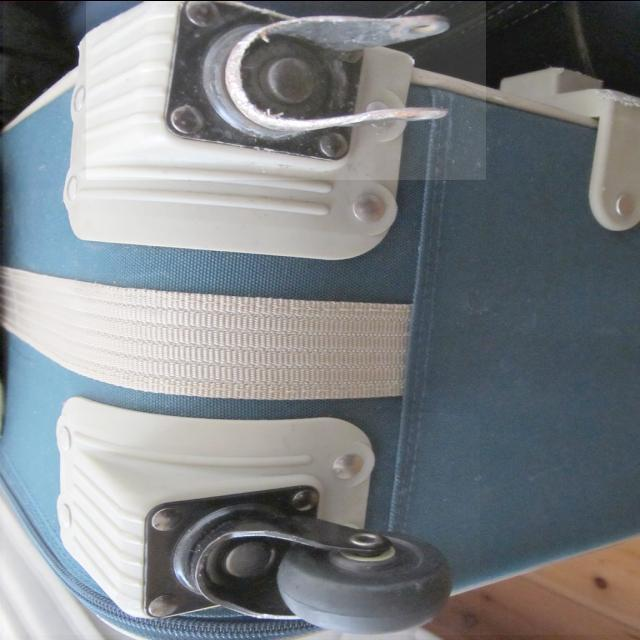Suitcase: (0, 1, 640, 636)
